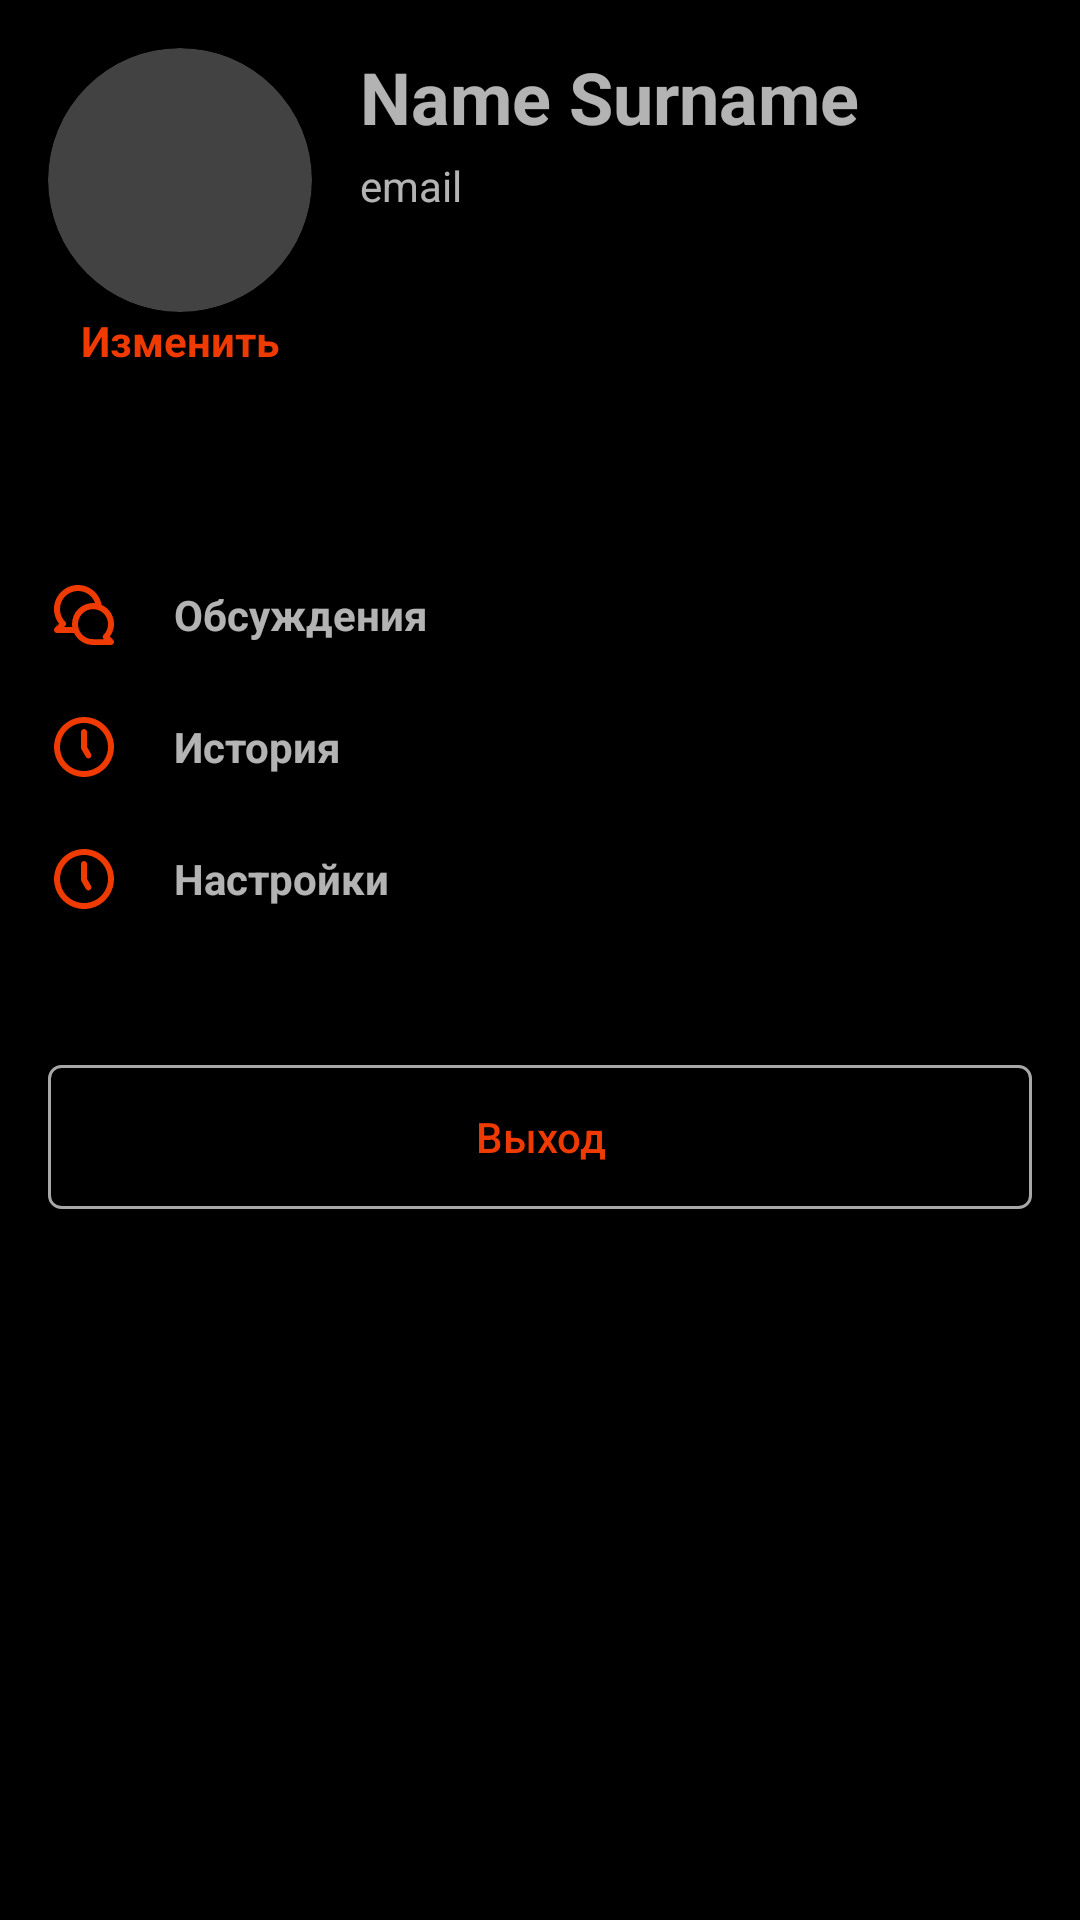

Point at icon controls on the screen. Image size 1080w x 1920h, points as [x,y].
discussion: [84,615]
history: [84,747], [84,879]
